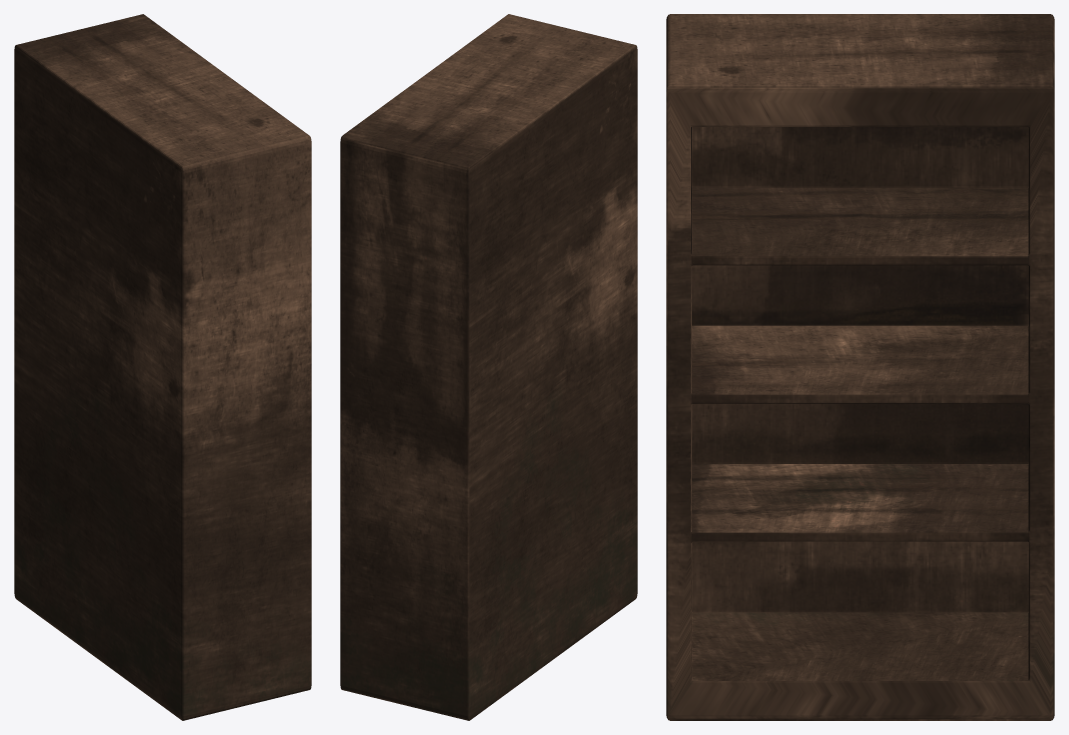
The model's file is prateleiras.fbx.
The picture shows the model from 3 angles, left to right: view 1: azimuth 30°, elevation 25°; view 2: azimuth 150°, elevation 25°; view 3: azimuth 270°, elevation 25°; orthographic projection. The views are drawn at different scales.
Parts seen in each view (by area): view 1: prateleiras.LOD0; view 2: prateleiras.LOD0; view 3: prateleiras.LOD0.
Part boxes in pixels (left/top/right/bottom): prateleiras.LOD0: left=14, top=14, right=311, bottom=720; prateleiras.LOD0: left=340, top=14, right=637, bottom=720; prateleiras.LOD0: left=666, top=14, right=1054, bottom=720.
Size of what is drawn, in the model's own units: 45.51 by 186 by 103.
